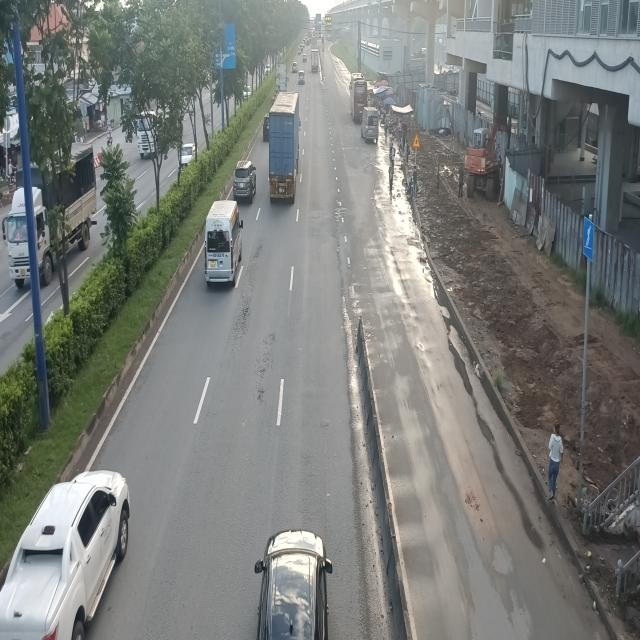car: (0, 472, 128, 640), (255, 528, 334, 638), (233, 160, 258, 205)
coach: (350, 74, 368, 121)
container: (268, 92, 301, 205)
van: (204, 198, 244, 286), (361, 106, 379, 143)
